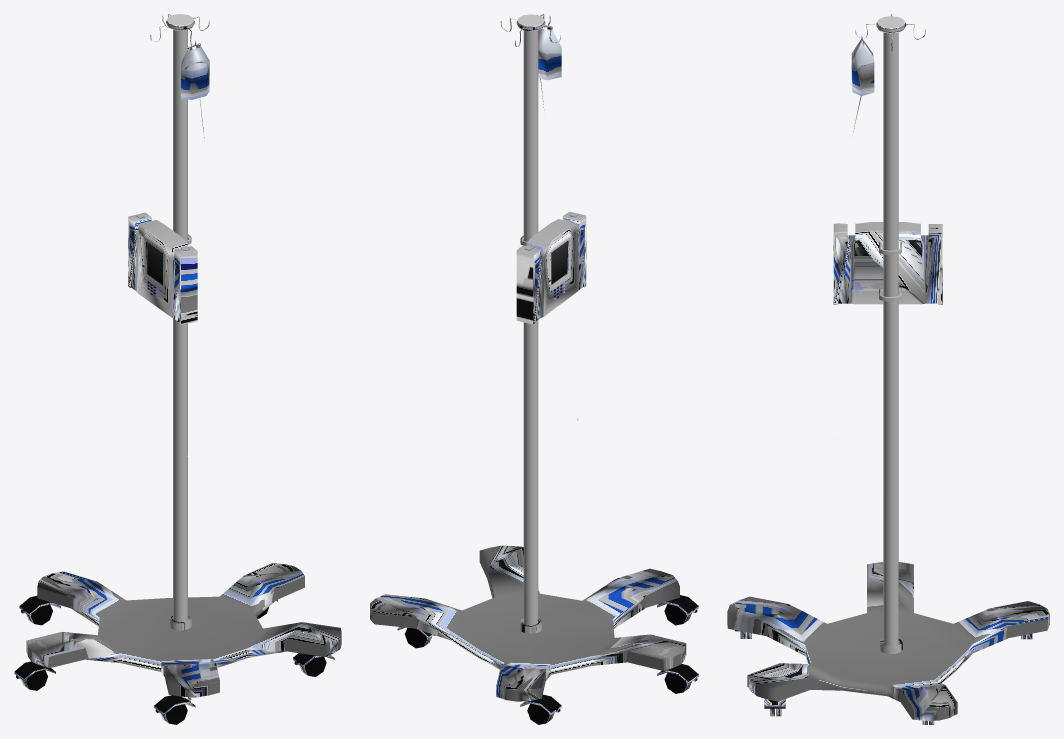
The model's file is iv-stand.glb.
3 views of the same model, side by side, from view 1: azimuth 30°, elevation 25°; view 2: azimuth 150°, elevation 25°; view 3: azimuth 270°, elevation 25° (orthographic). The views are drawn at different scales.
Parts seen in each view (by area): view 1: Cylinder001; view 2: Cylinder001; view 3: Cylinder001.
Part boxes in pixels (x1,y1,x2,y2): Cylinder001: [14, 14, 341, 724]; Cylinder001: [370, 14, 698, 724]; Cylinder001: [727, 14, 1049, 724].
Bounding box in the file's own units: 0.9484 × 1.9 × 0.847.
1 material, 1 textured.
